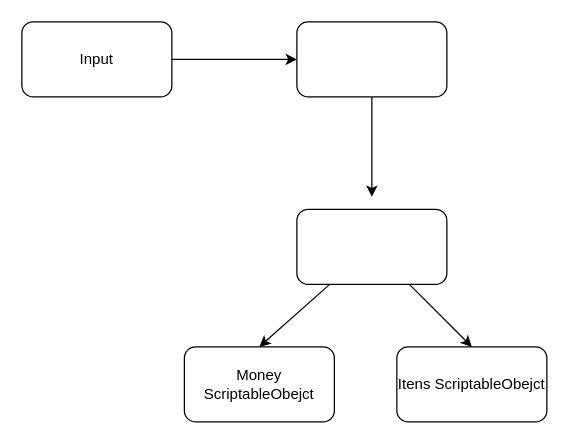
Image size: 569x444. Some labels were removed from this diagram. The box of each missing label's shape, as (x1, y1, x2, y2) in pixels:
Builde System: (296, 21, 447, 97)
Shop System: (296, 208, 447, 284)
